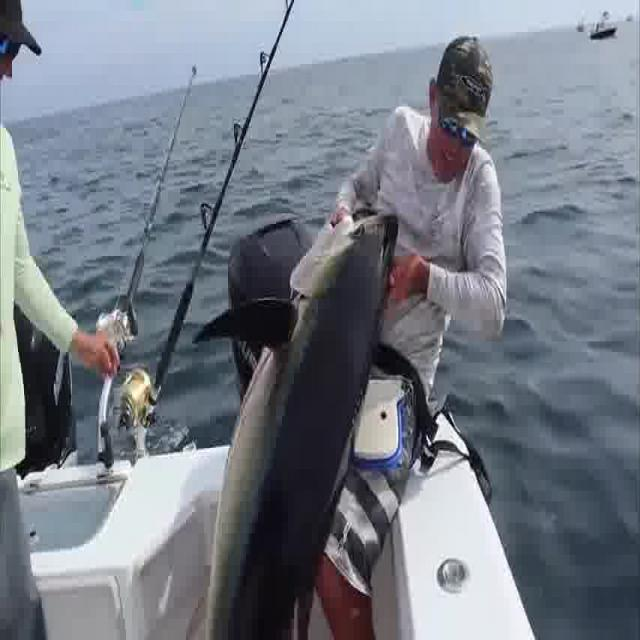Yellowfin Tuna: (182, 202, 398, 640)
